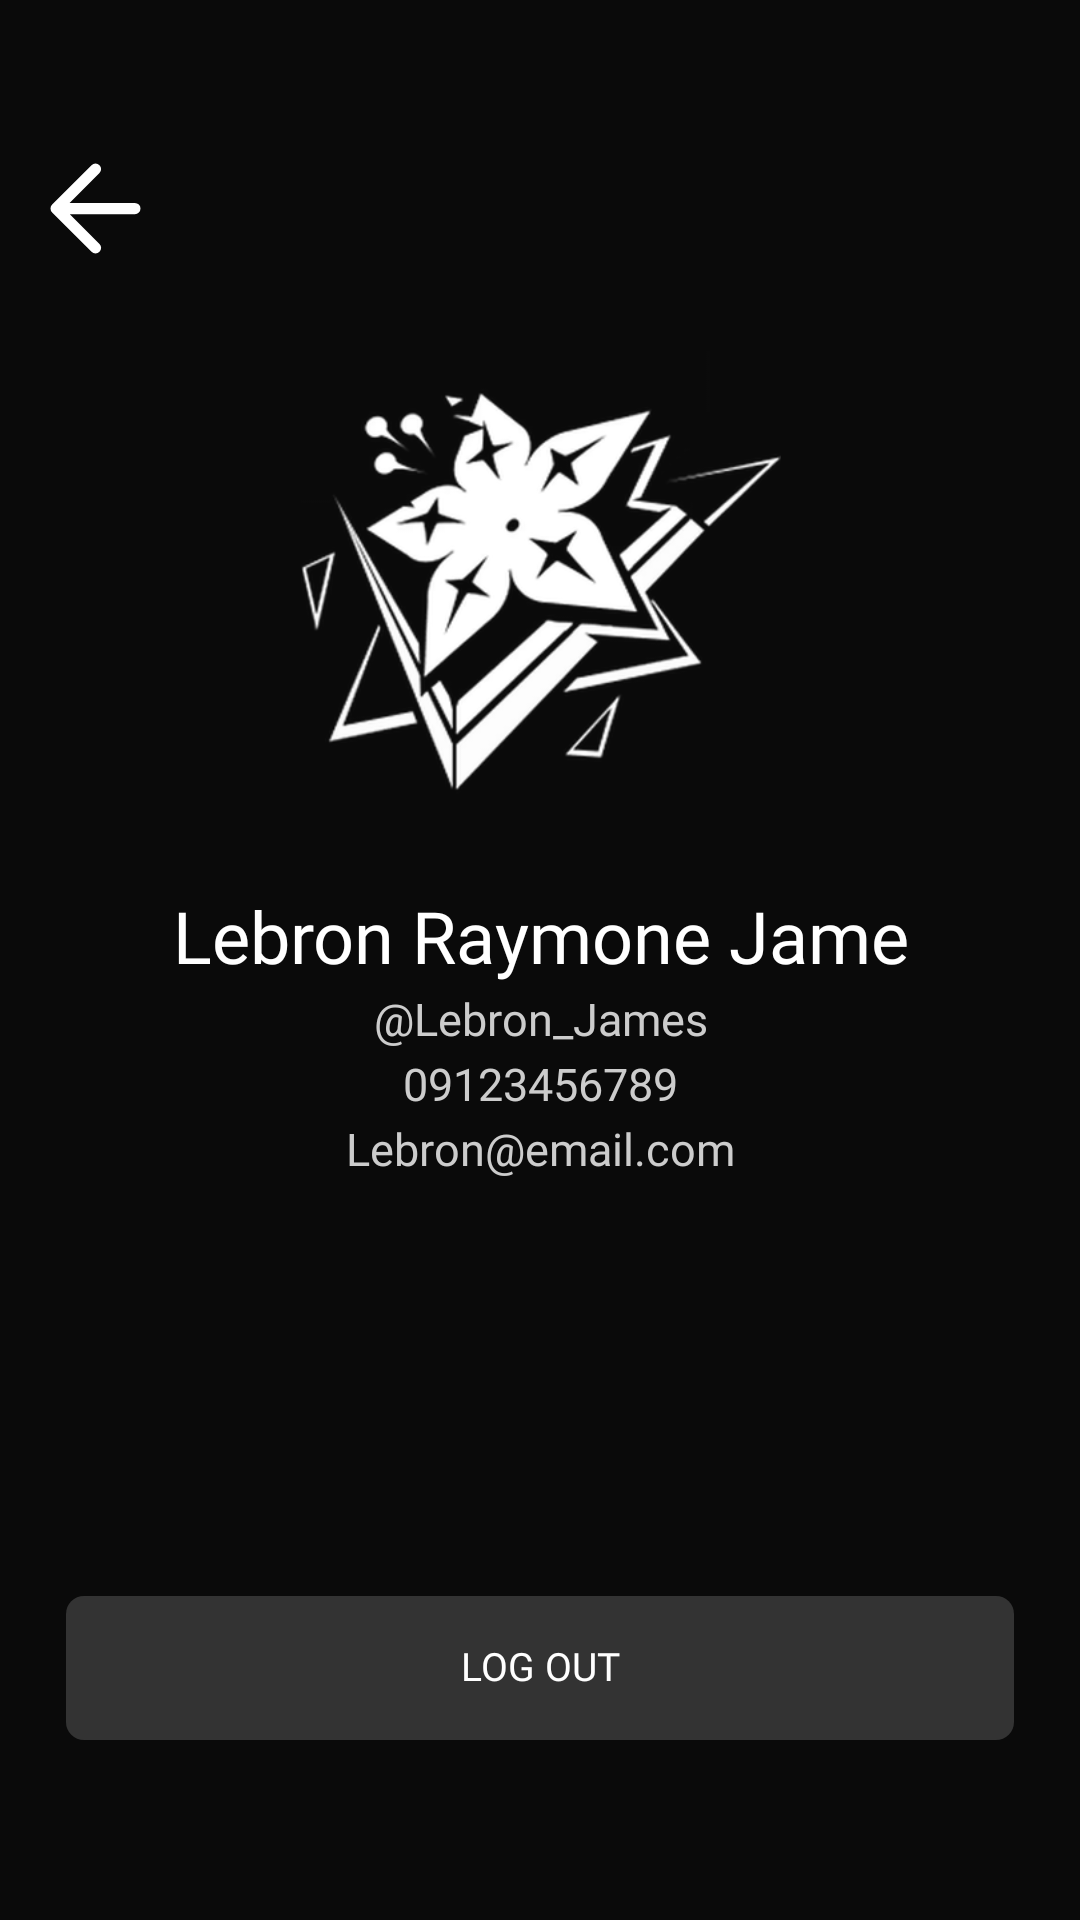

Locate icon controls on the screen. Image size 1080w x 1920h, boxes as {"x1": x1, "y1": y1, "x2": x2, "y2": y2}.
Back Btn: {"x1": 50, "y1": 163, "x2": 141, "y2": 254}
